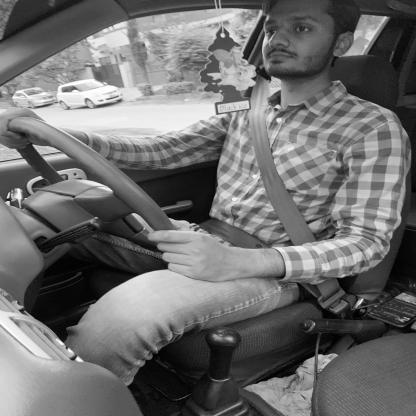seatbelt: (222, 0, 369, 208)
